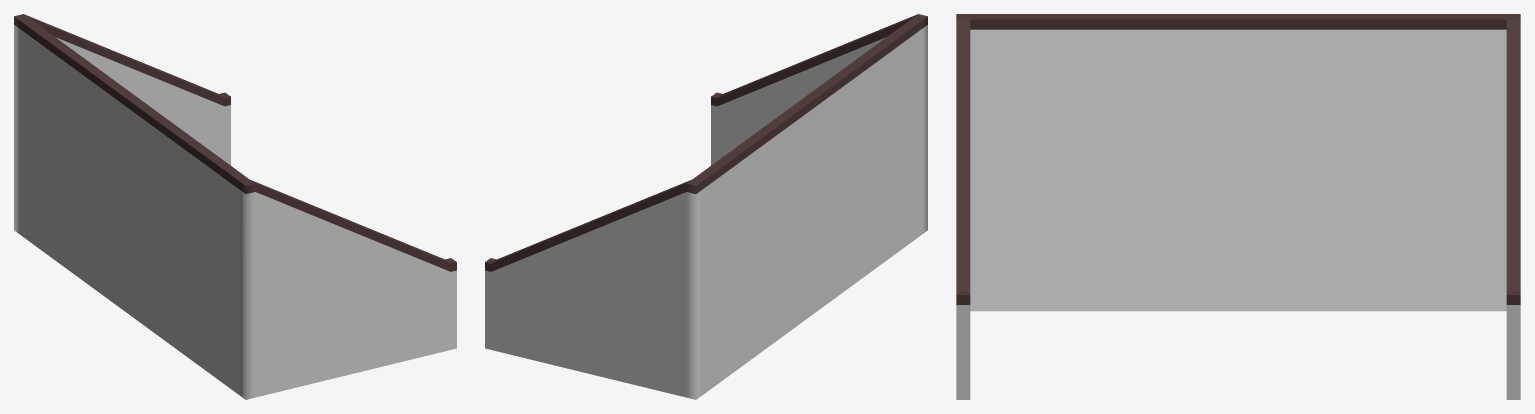
File: Fence.fbx
3 views of the same model, side by side, from view 1: azimuth 30°, elevation 25°; view 2: azimuth 150°, elevation 25°; view 3: azimuth 270°, elevation 25° (orthographic). The views are drawn at different scales.
Parts seen in each view (by area): view 1: Fence; view 2: Fence; view 3: Fence.
Part boxes in pixels (bbox=[...]): Fence: bbox=[14, 14, 456, 399]; Fence: bbox=[485, 14, 927, 399]; Fence: bbox=[956, 14, 1520, 399].
Size of the model in its own units: 1.11 by 1.07 by 2.1.
